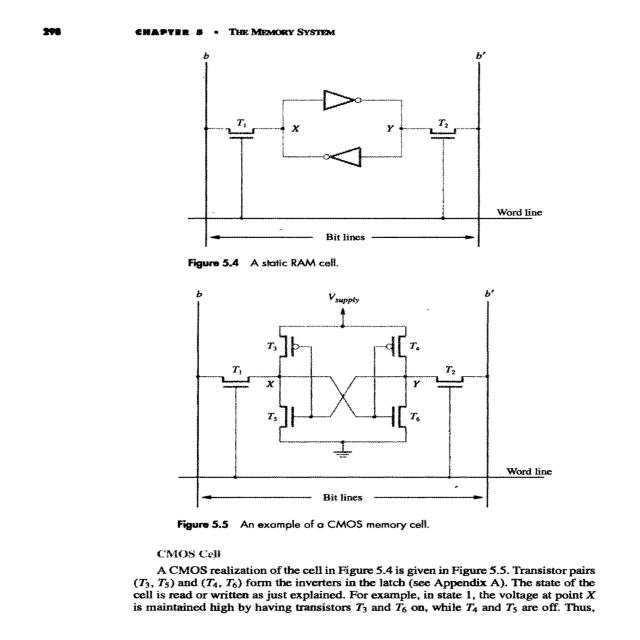diagram: (76, 286, 638, 544), (108, 46, 579, 276)
